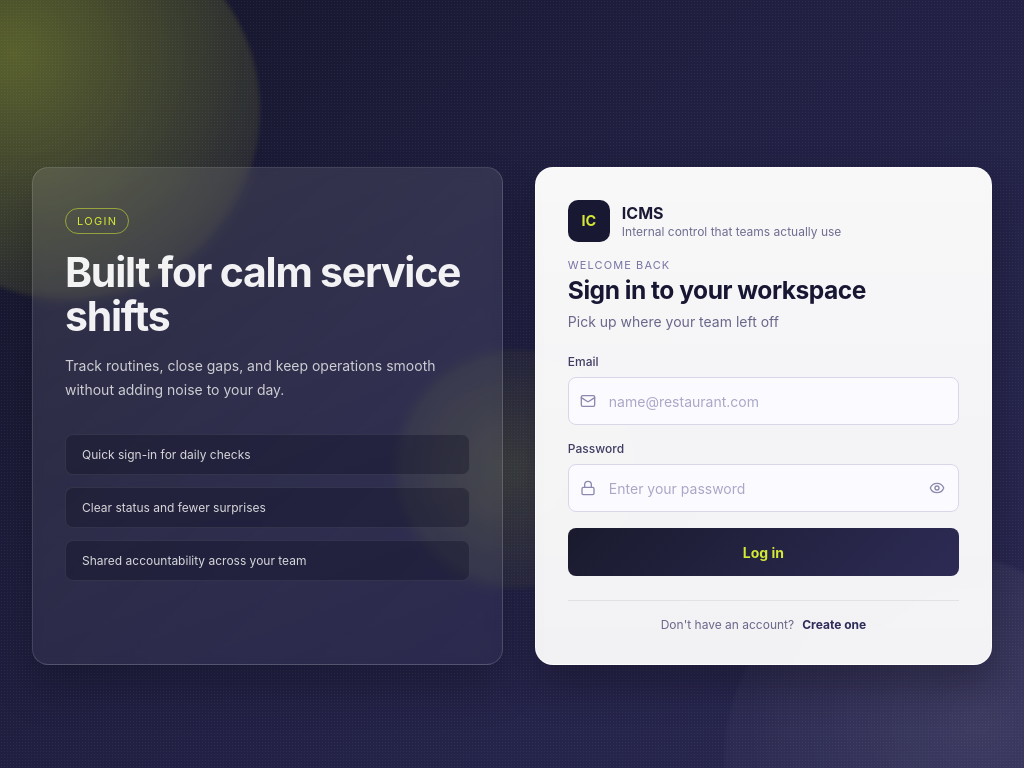
Test case: Login Page › shows only email error when only email is missing
Type "somepassword" into the password field labelled "Password". click: {"x": 764, "y": 488}
box: [568,464,959,512]
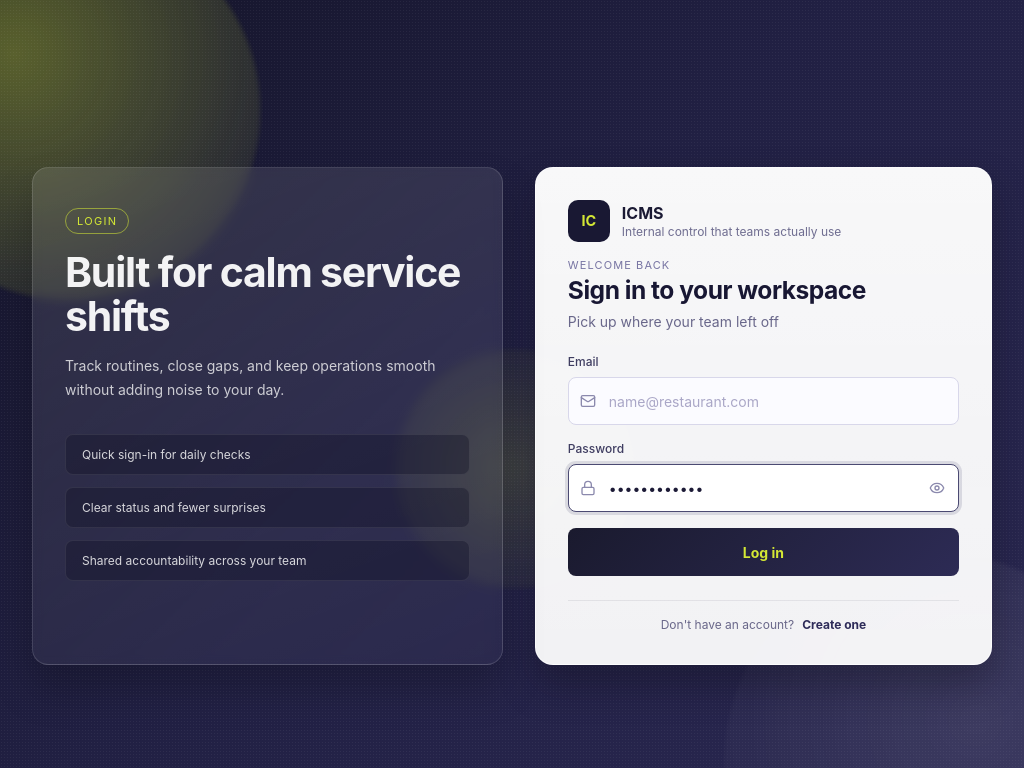
Click the submit button. click: {"x": 764, "y": 552}
box: [568,528,959,576]
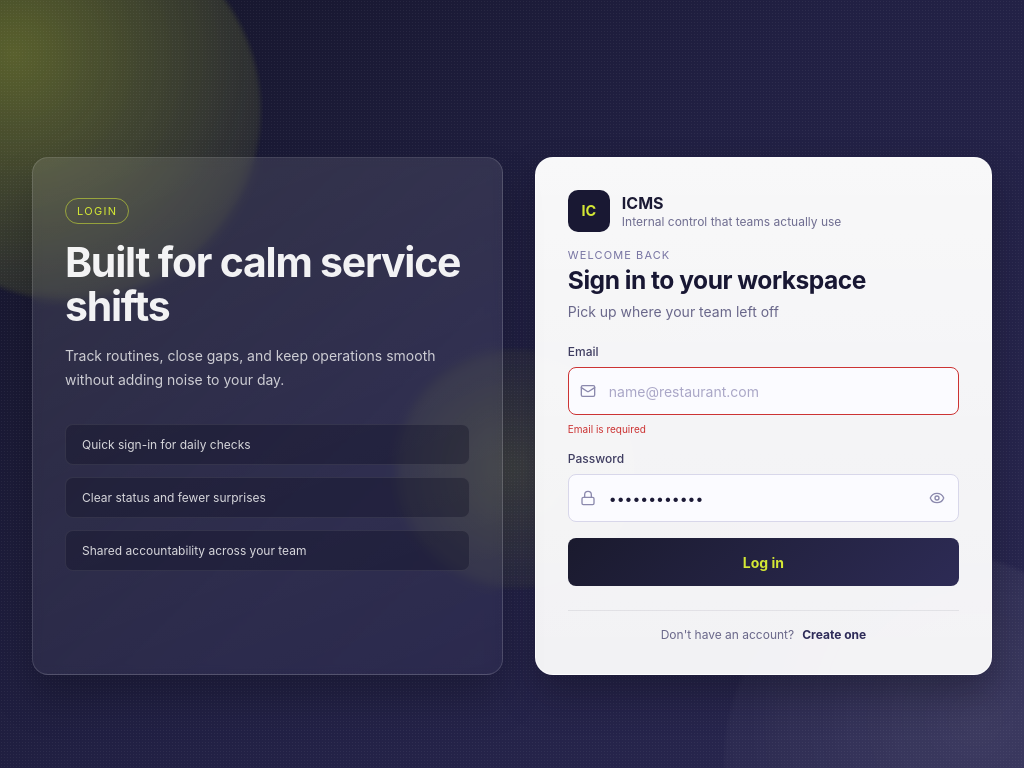
Expected: the text "Email is required" is shown, [568,423,646,435]
